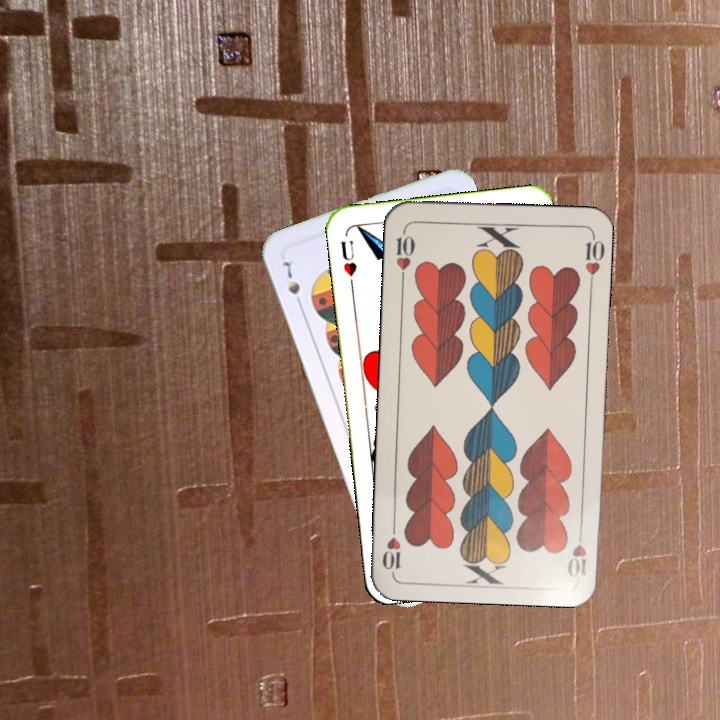H10: (392, 225, 418, 284), (564, 522, 589, 580)
HU: (336, 236, 359, 290)
S7: (278, 256, 306, 311)
